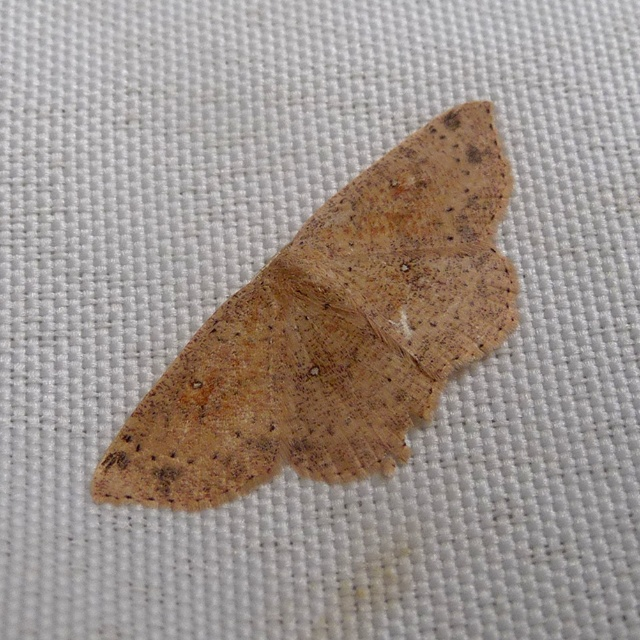Moths and butterflies: (88, 98, 524, 513)
